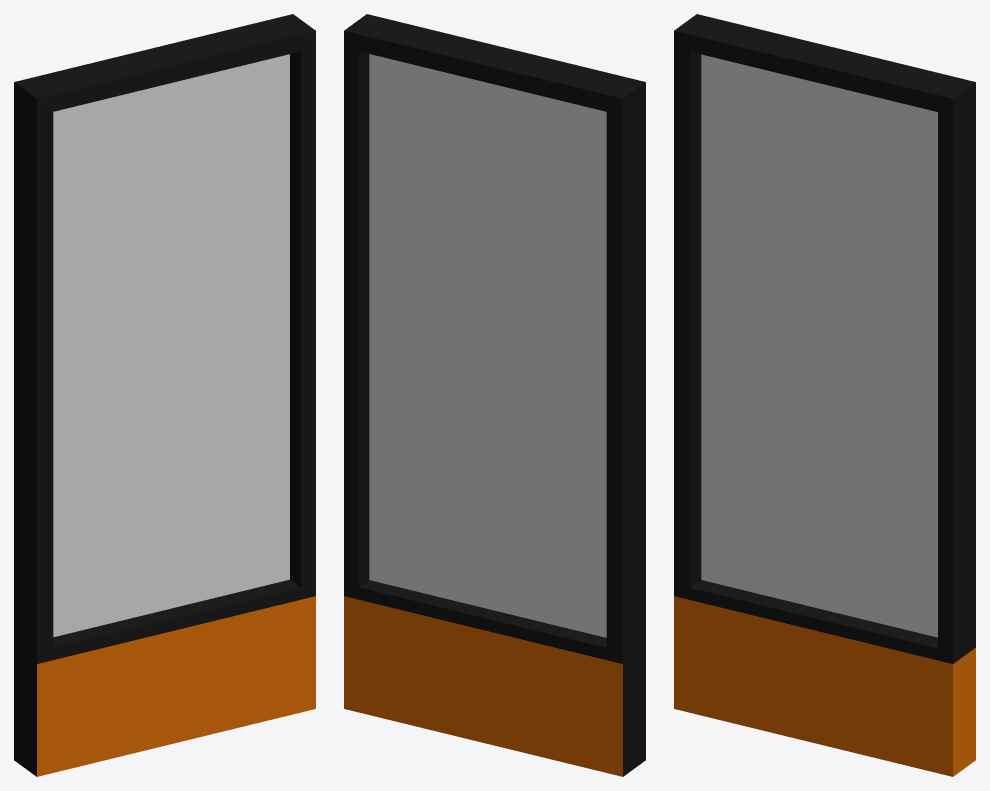
File: RestaurantWindow.fbx
The picture shows the model from 3 angles, left to right: view 1: azimuth 30°, elevation 25°; view 2: azimuth 150°, elevation 25°; view 3: azimuth 330°, elevation 25°; orthographic projection.
Parts seen in each view (by area): view 1: pCube70; view 2: pCube70; view 3: pCube70.
Part boxes in pixels (box(x1,y1,x2,y2)): pCube70: box(14, 14, 315, 776); pCube70: box(344, 14, 645, 776); pCube70: box(674, 14, 975, 776).
Bounding box in the file's own units: 9.51 × 22.08 × 1.35.
